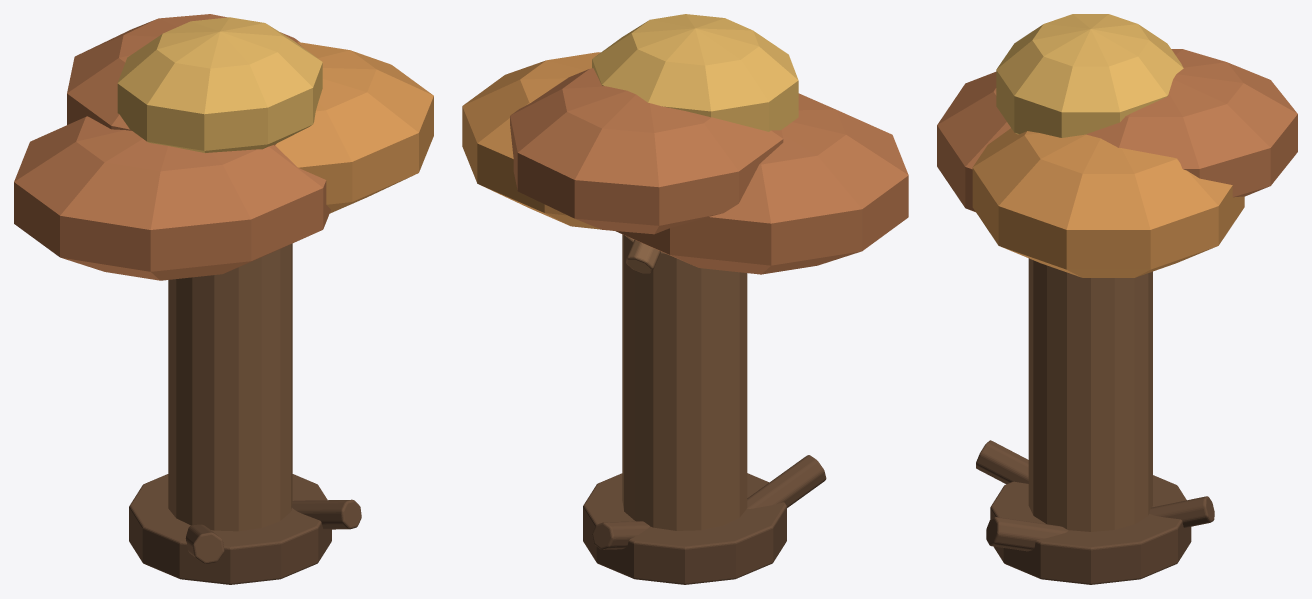
File: woodland-great-tree-01--autumn.glb
3 views of the same model, side by side, from view 1: azimuth 30°, elevation 25°; view 2: azimuth 150°, elevation 25°; view 3: azimuth 270°, elevation 25° (orthographic).
Visible parts, largest first — view 1: woodland-great-tree-01--autumn; view 2: woodland-great-tree-01--autumn; view 3: woodland-great-tree-01--autumn.
Part boxes in pixels (box(x1,y1,x2,y2)): woodland-great-tree-01--autumn: box(14, 14, 433, 584); woodland-great-tree-01--autumn: box(462, 14, 908, 584); woodland-great-tree-01--autumn: box(937, 14, 1297, 584).
Size of the model in its own units: 0.75 by 0.9619 by 0.61.
